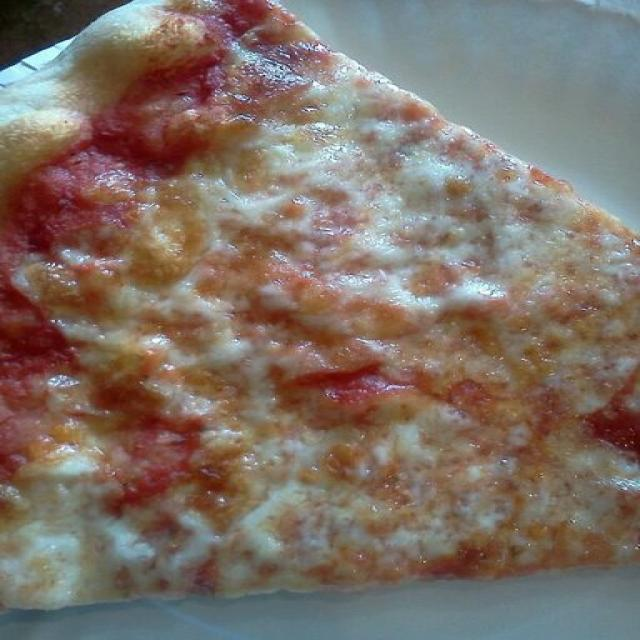Pizza: (0, 0, 640, 611)
